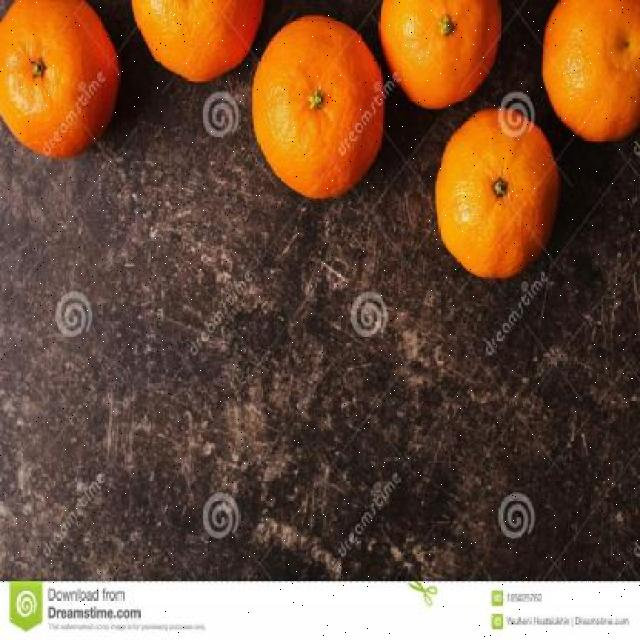Orange: (249, 12, 385, 198), (432, 106, 558, 278), (0, 0, 120, 158), (540, 0, 638, 142), (377, 0, 501, 109), (129, 0, 265, 83)
